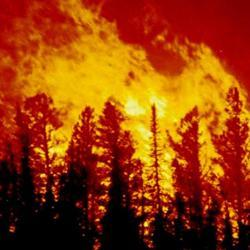fire: (39, 55, 128, 104), (122, 94, 172, 142)
